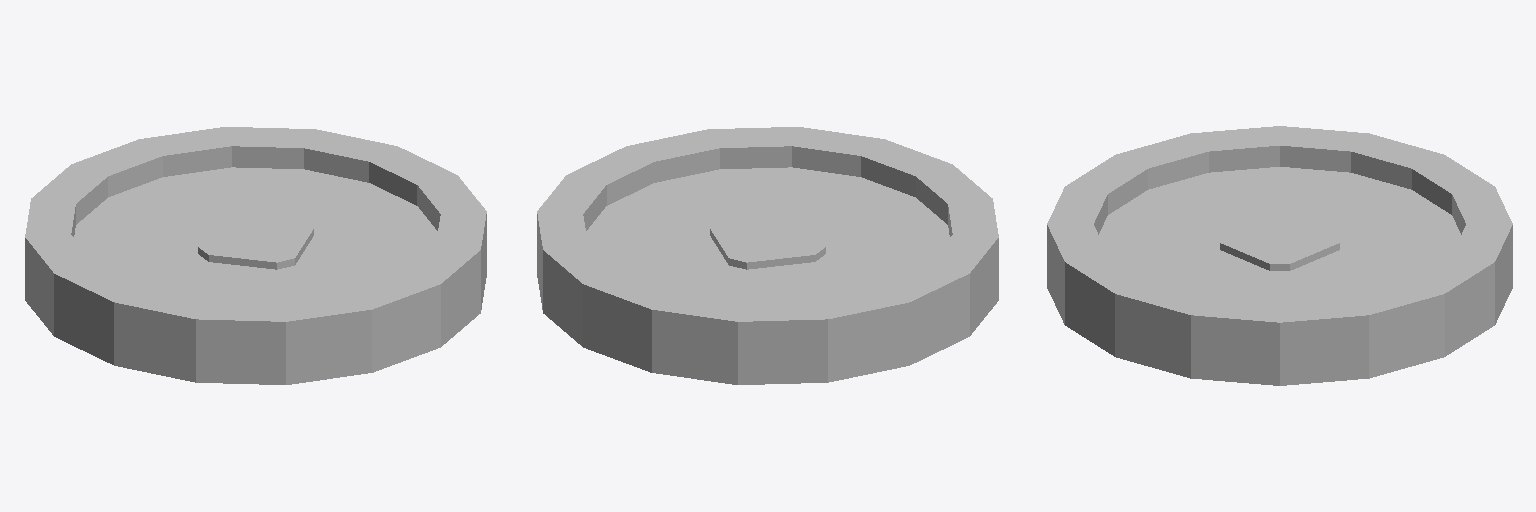
File: coin-point.obj
3 views of the same model, side by side, from view 1: azimuth 30°, elevation 25°; view 2: azimuth 150°, elevation 25°; view 3: azimuth 270°, elevation 25° (orthographic).
Parts seen in each view (by area): view 1: coin_Cylinder; view 2: coin_Cylinder; view 3: coin_Cylinder.
Part boxes in pixels (left/top/right/bottom): coin_Cylinder: left=25, top=127, right=486, bottom=384; coin_Cylinder: left=537, top=127, right=998, bottom=384; coin_Cylinder: left=1047, top=126, right=1512, bottom=385.
Bounding box in the file's own units: 20 × 3 × 20.